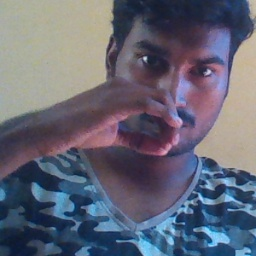O: (57, 76, 187, 165)
